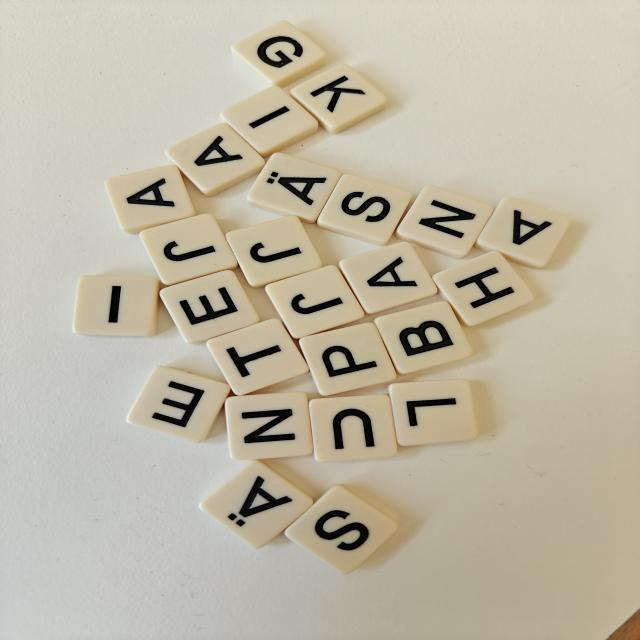a: (339, 242, 437, 315), (166, 124, 264, 196), (475, 197, 570, 268), (105, 165, 195, 233)
a_dot: (200, 461, 313, 548), (247, 153, 341, 223)
b: (374, 302, 472, 374)
e: (127, 366, 230, 442), (160, 270, 259, 343)
g: (231, 21, 326, 87)
h: (433, 251, 534, 326)
i: (220, 87, 318, 156), (73, 276, 160, 336)
j: (265, 266, 364, 338), (226, 215, 322, 287), (140, 214, 237, 285)
k: (291, 64, 387, 133)
l: (388, 379, 478, 446)
n: (395, 186, 493, 258), (225, 392, 313, 460)
p: (299, 323, 396, 396)
s: (285, 485, 398, 574), (317, 174, 411, 245)
t: (206, 319, 309, 395)
u: (309, 395, 397, 462)
